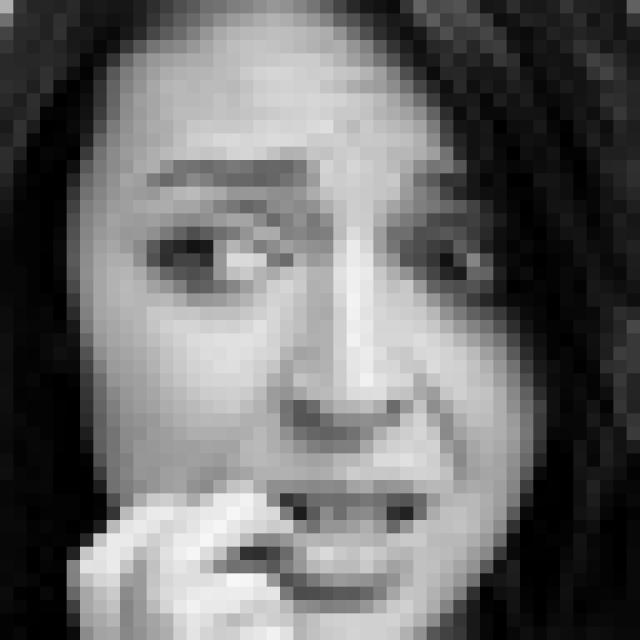fear: (125, 146, 506, 605)
